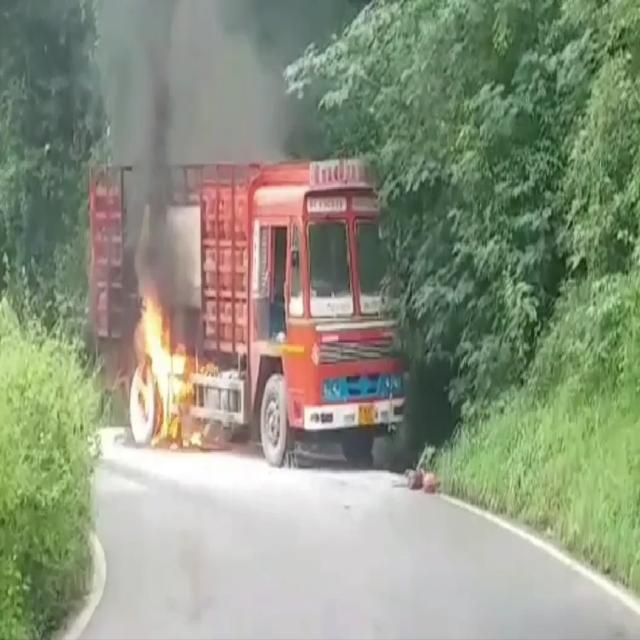accident: (90, 159, 405, 464)
